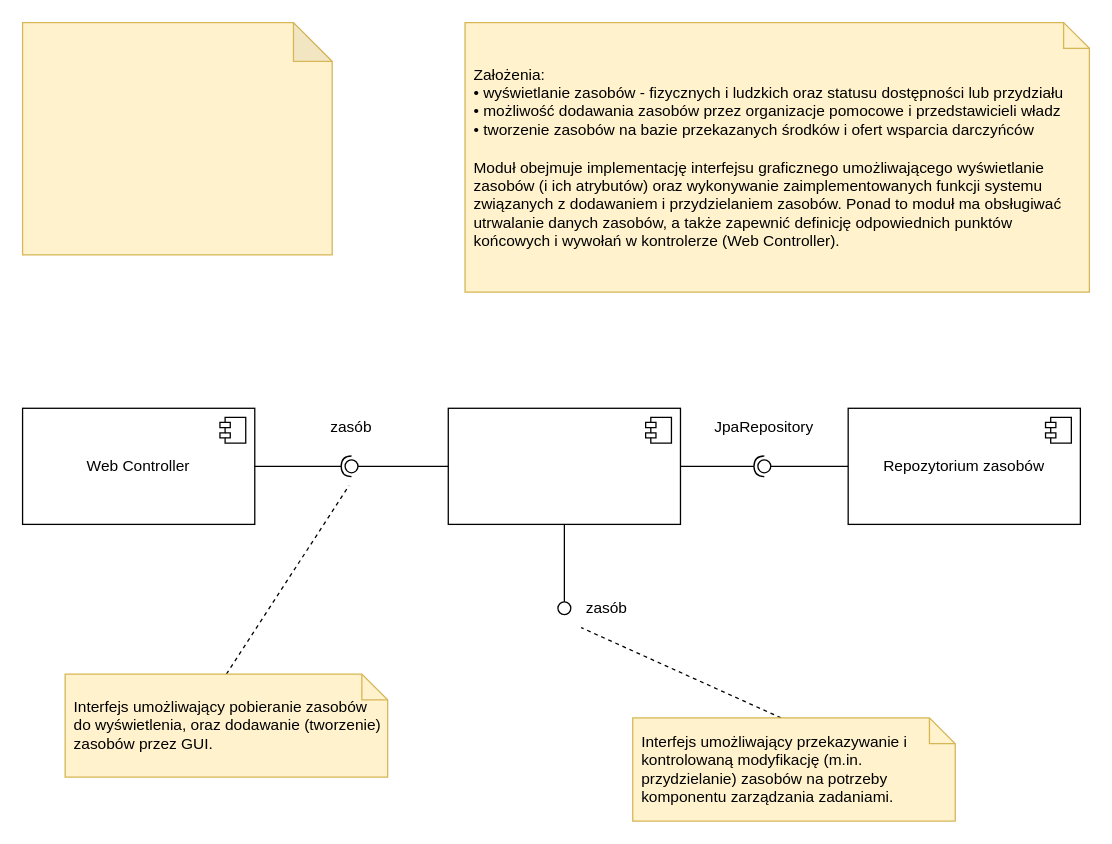
Some shapes in this 1112 by 844 pixel diagram are drawn without their labels. Each missing label, with the box of its shape:
Projektanci: • Karolina Linek • Mateusz Pawlak: (21, 21, 332, 255)
Zarządzanie zasobami: (447, 407, 680, 524)
